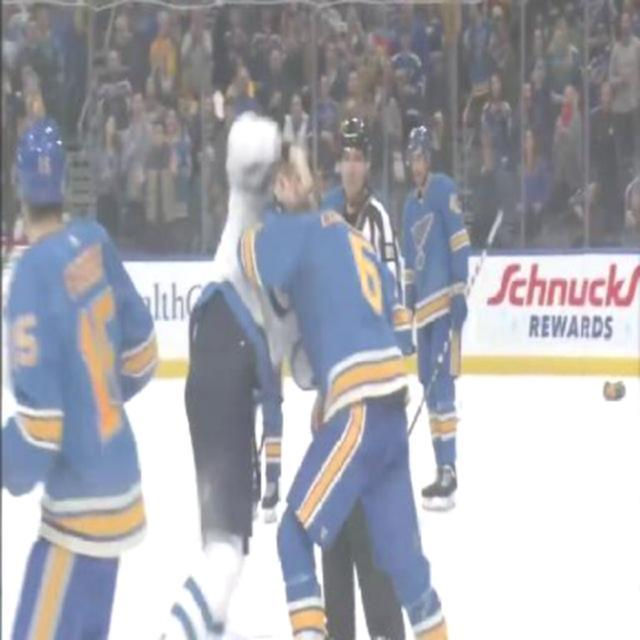fight: (189, 112, 414, 537)
